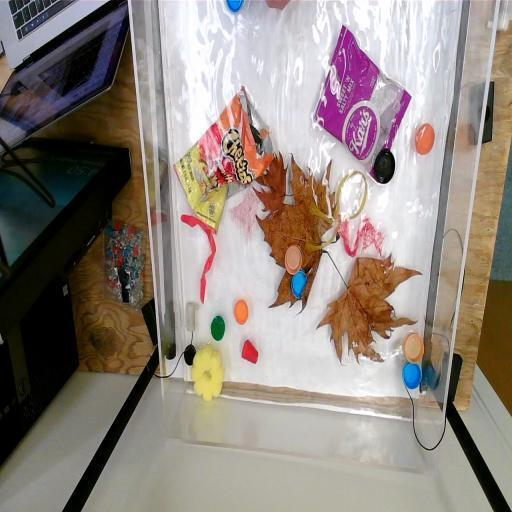Bottle Cap: (373, 146, 396, 186), (414, 121, 438, 159), (403, 328, 425, 366), (282, 240, 304, 276), (402, 360, 422, 395), (233, 295, 252, 330), (209, 312, 228, 344), (290, 270, 308, 300), (224, 0, 247, 15), (184, 342, 196, 366)
Cone Cap: (239, 335, 261, 371)
Leaf: (259, 152, 348, 322), (320, 250, 420, 366), (253, 149, 292, 216)
Netting: (339, 212, 387, 262), (226, 185, 262, 244)
Plastic Bag: (310, 22, 414, 185), (172, 82, 278, 236)
Plastic Strand: (306, 170, 370, 254), (179, 209, 218, 308)
Sponge: (188, 343, 226, 406)
